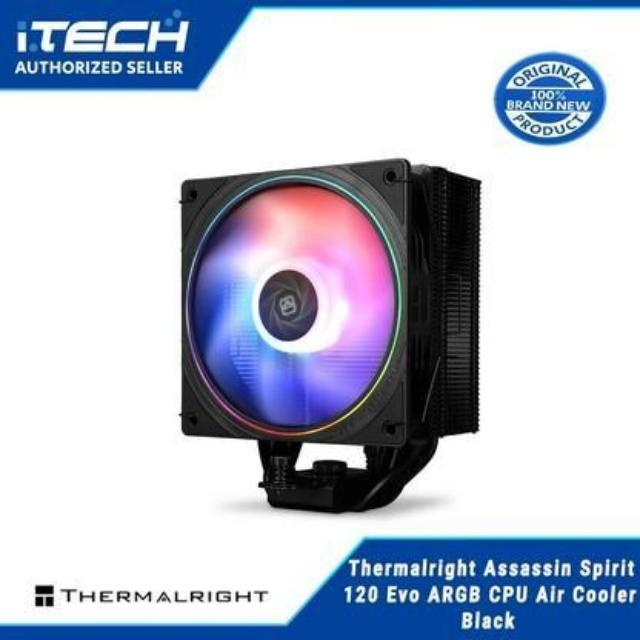CPU_Fan: (180, 158, 482, 514)
